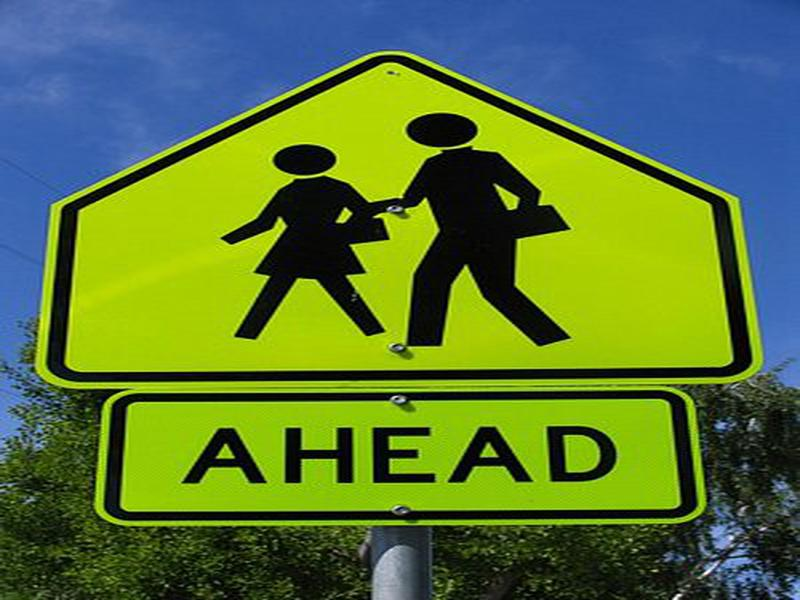slow: (31, 47, 765, 393)
